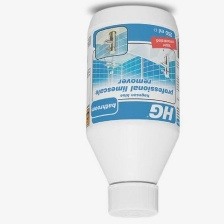cleaning_solution: (82, 1, 183, 221)
